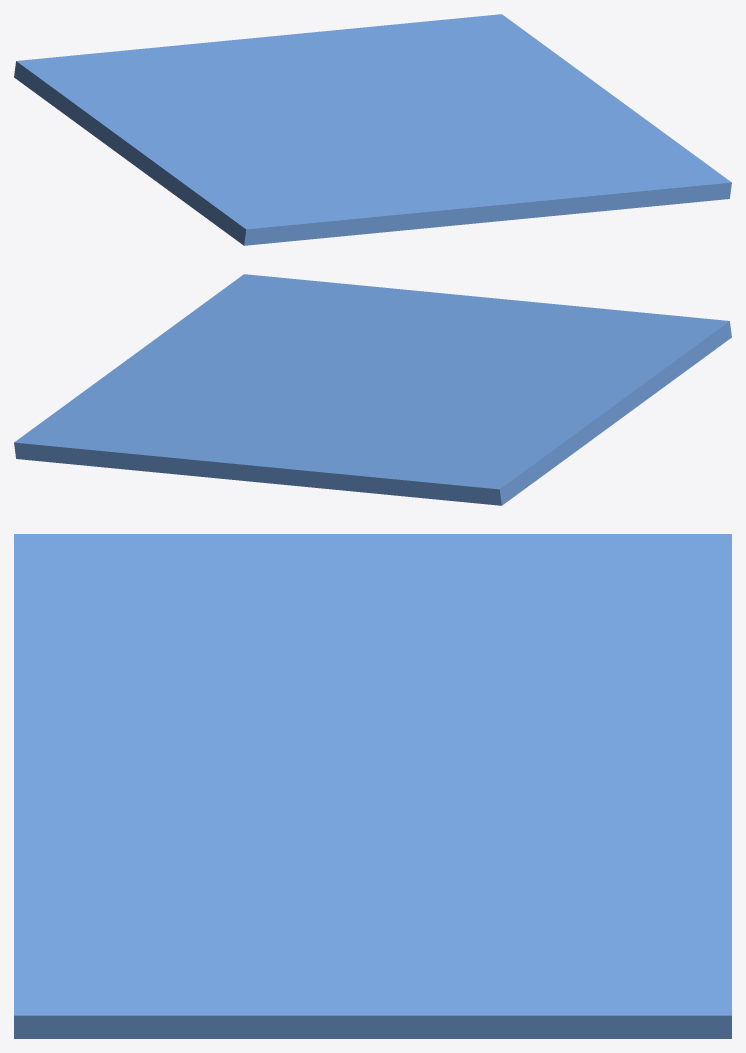
The model's file is glider.glb.
3 views of the same model, one above another, from view 1: azimuth 30°, elevation 25°; view 2: azimuth 150°, elevation 25°; view 3: azimuth 270°, elevation 25° (orthographic). The views are drawn at different scales.
Parts seen in each view (by area): view 1: wing_left; view 2: wing_left; view 3: wing_left.
Boxes of the visible parts, x1=… form: wing_left: x1=14, y1=14, x2=731, y2=245; wing_left: x1=14, y1=274, x2=731, y2=505; wing_left: x1=14, y1=534, x2=731, y2=1038.
Size of the model in its own units: 1.59 by 0.2728 by 1.3.
